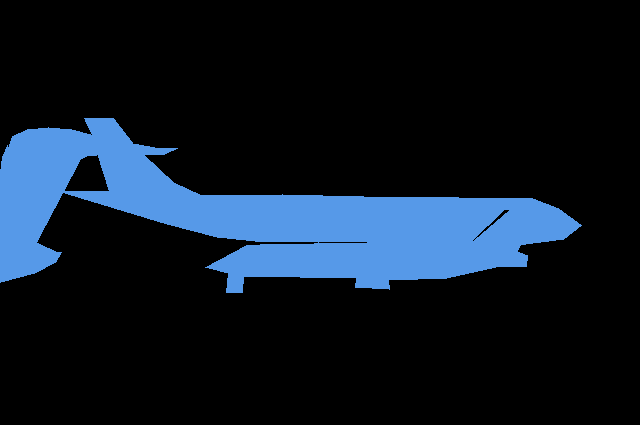Airplane: (58, 118, 581, 246), (0, 127, 177, 282), (205, 209, 534, 292)
